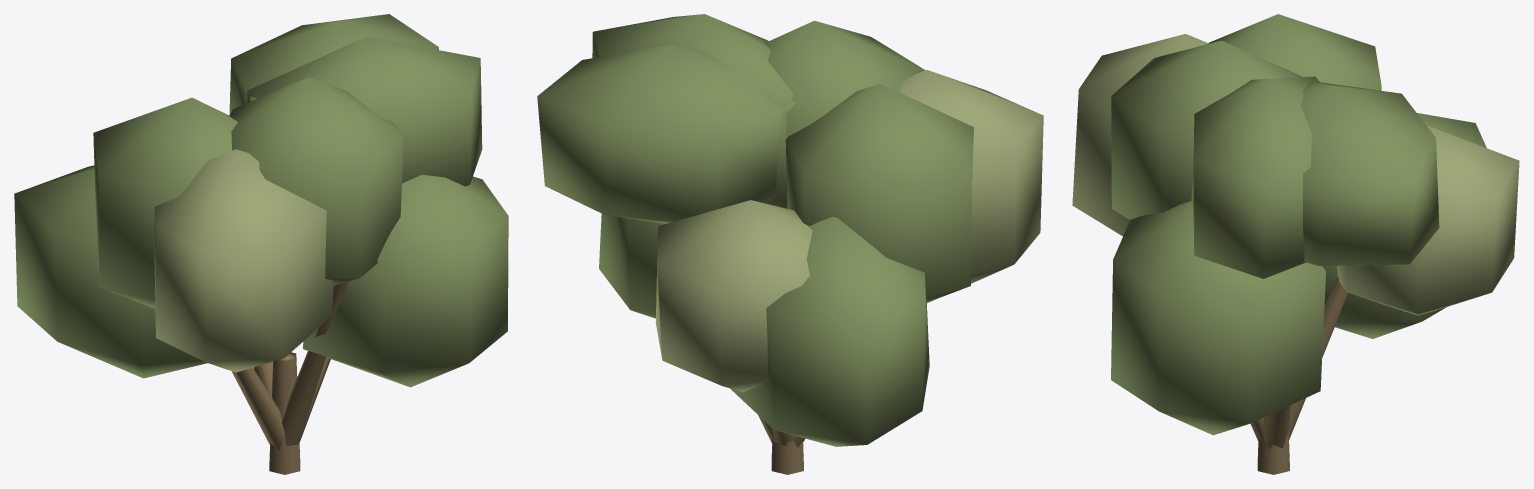
File: shrub.glb
3 views of the same model, side by side, from view 1: azimuth 30°, elevation 25°; view 2: azimuth 150°, elevation 25°; view 3: azimuth 270°, elevation 25° (orthographic). The views are drawn at different scales.
Parts seen in each view (by area): view 1: leaf_olive, leaf_sage, bark; view 2: leaf_olive, leaf_sage, bark; view 3: leaf_olive, leaf_sage, bark.
Part boxes in pixels (x1,y1,x2,y2): leaf_olive: (14,14,508,387); leaf_sage: (154,149,333,372); bark: (232,281,347,474); leaf_olive: (537,14,973,446); leaf_sage: (655,70,1043,392); bark: (758,415,804,474); leaf_olive: (1111,14,1486,435); leaf_sage: (1072,34,1519,315); bark: (1250,277,1348,474).
Bounding box in the file's own units: 0.8453 × 0.8909 × 0.8402.
